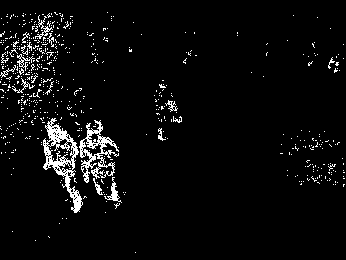person: (40, 120, 83, 212), (78, 120, 122, 209), (151, 78, 183, 144)
